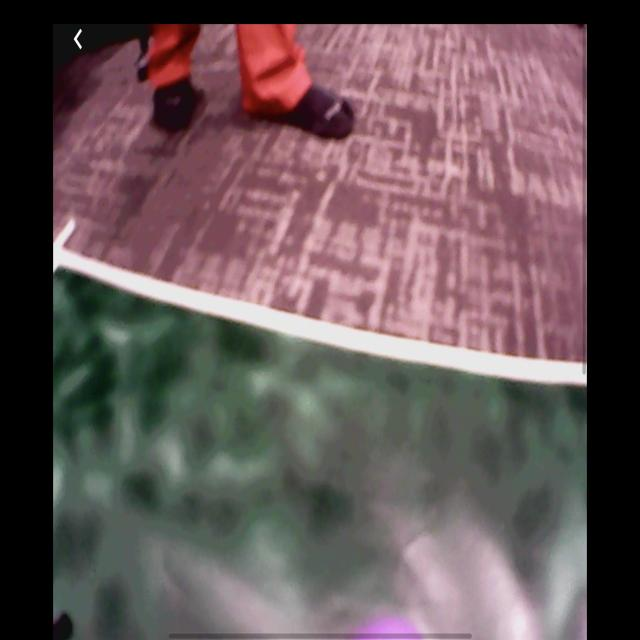ball: (355, 614, 422, 640)
